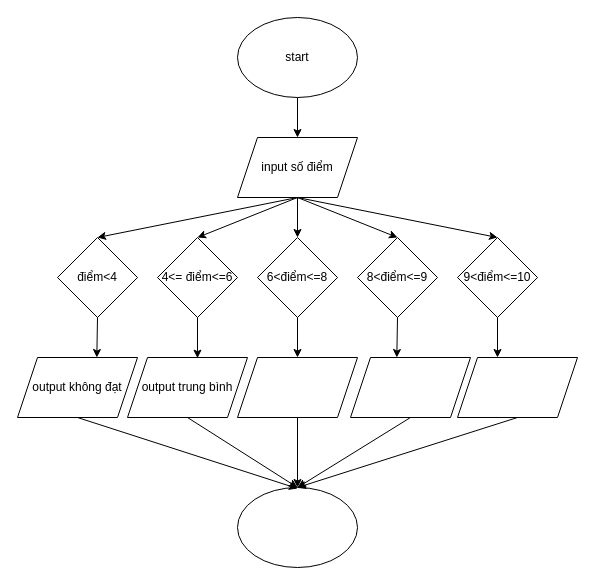
Image size: 595x585. Some labels were removed from this diagram. The centre of each missing label's shape, as x and y in pixels:
"end" belongs at pixel 297 527.
"output giỏi" belongs at pixel 410 387.
"output khá" belongs at pixel 297 387.
"output xuất sắc" belongs at pixel 517 387.
